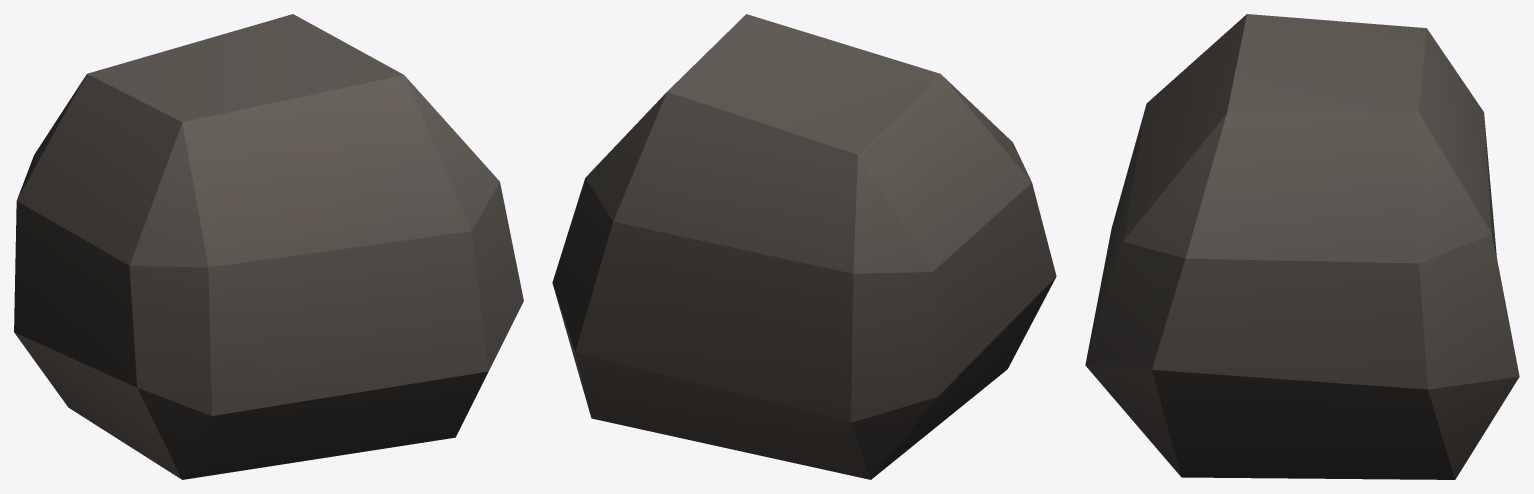
The model's file is Stone_Squarish_D.fbx.
The picture shows the model from 3 angles, left to right: view 1: azimuth 30°, elevation 25°; view 2: azimuth 150°, elevation 25°; view 3: azimuth 270°, elevation 25°; orthographic projection. The views are drawn at different scales.
Parts seen in each view (by area): view 1: Stone_Squarish_D; view 2: Stone_Squarish_D; view 3: Stone_Squarish_D.
Boxes of the visible parts, box(x1,y1,x2,y2) form: Stone_Squarish_D: box(14, 14, 523, 479); Stone_Squarish_D: box(552, 14, 1056, 479); Stone_Squarish_D: box(1085, 14, 1519, 479).
Size of the model in its own units: 21.57 by 20.71 by 18.42.
1 material, 1 textured.
